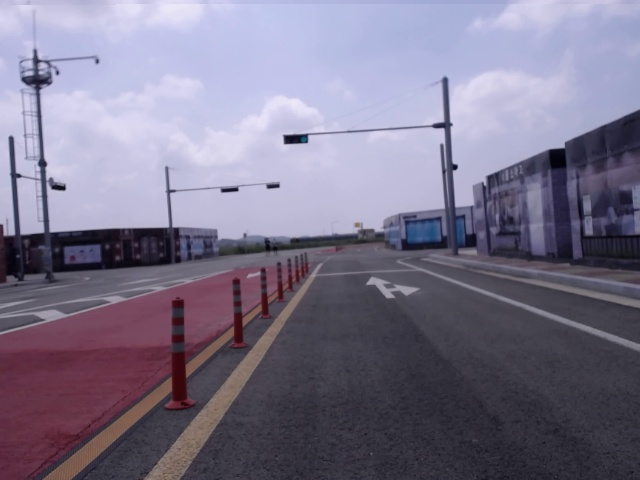green_3: (284, 134, 308, 144)
